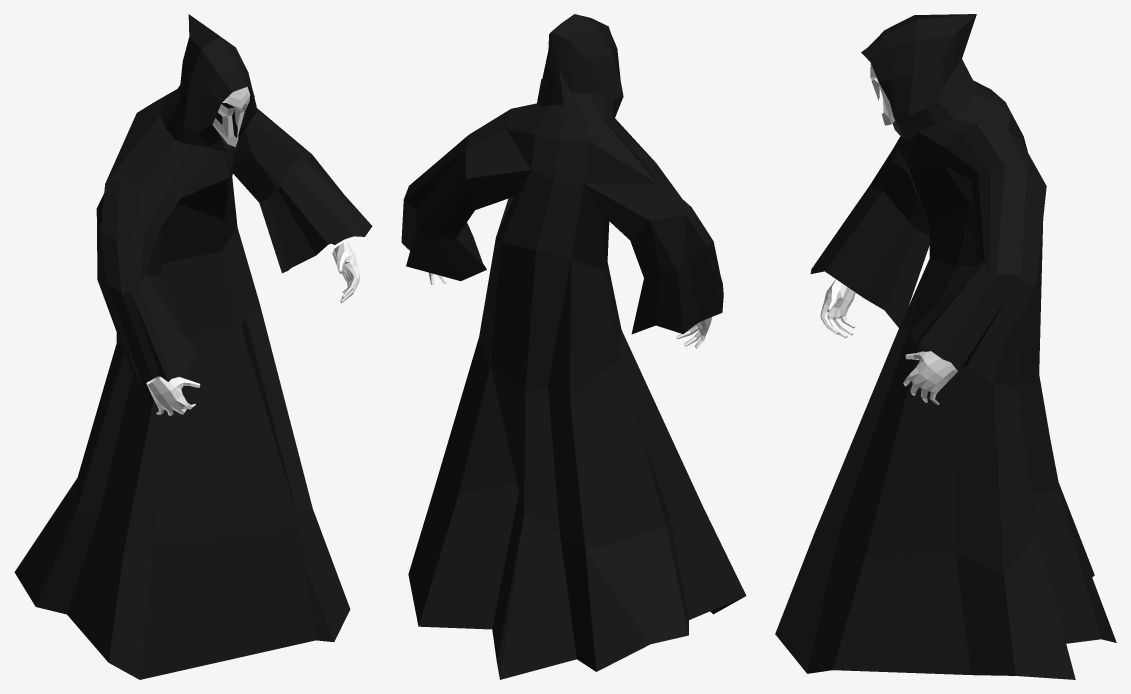
Rendered from ReaperWalk(2).obj.
The picture shows the model from 3 angles, left to right: view 1: azimuth 30°, elevation 25°; view 2: azimuth 150°, elevation 25°; view 3: azimuth 270°, elevation 25°; orthographic projection. The views are drawn at different scales.
Parts seen in each view (by area): view 1: Plane003; view 2: Plane003; view 3: Plane003.
Boxes of the visible parts, <box> form: Plane003: <box>14,14,372,679</box>; Plane003: <box>401,14,746,679</box>; Plane003: <box>775,14,1116,679</box>.
Size of the model in its own units: 116 by 215 by 104.
